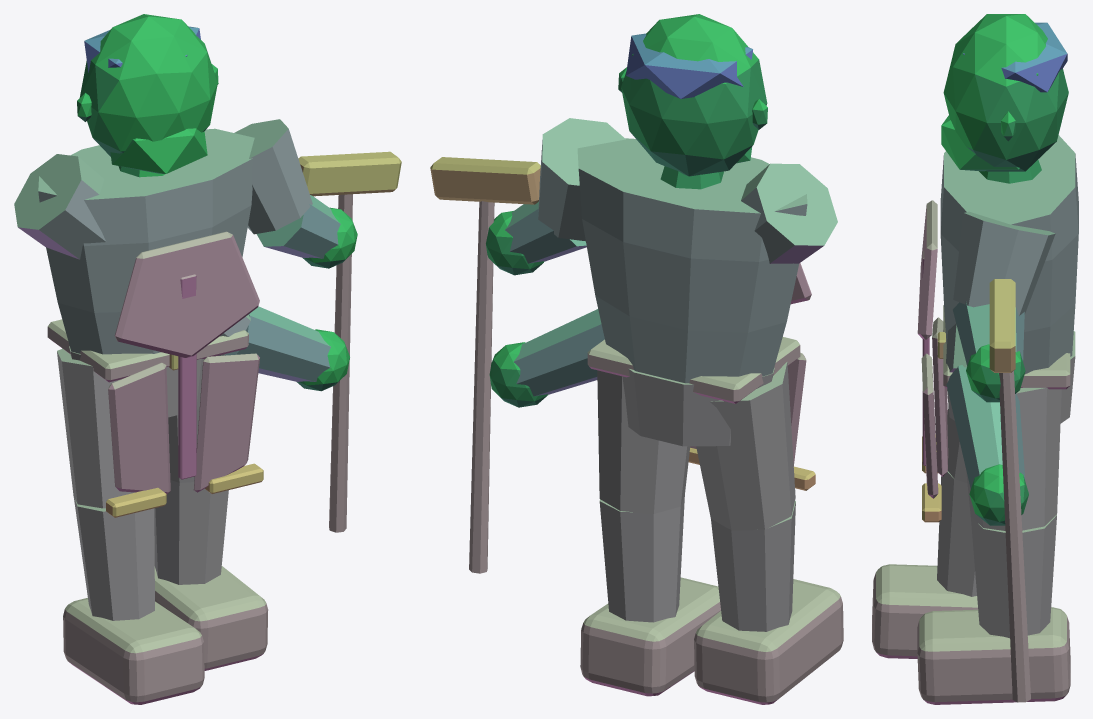
Rendered from npc_laborer_work_v01.glb.
The picture shows the model from 3 angles, left to right: view 1: azimuth 30°, elevation 25°; view 2: azimuth 150°, elevation 25°; view 3: azimuth 270°, elevation 25°; orthographic projection. The views are drawn at different scales.
Visible parts, largest first — view 1: GEO_npc_laborer_work_v01; view 2: GEO_npc_laborer_work_v01; view 3: GEO_npc_laborer_work_v01.
Part boxes in pixels (x1,y1,x2,y2): GEO_npc_laborer_work_v01: [14, 14, 401, 704]; GEO_npc_laborer_work_v01: [430, 14, 843, 704]; GEO_npc_laborer_work_v01: [872, 14, 1078, 704].
Size of the model in its own units: 1.28 by 2.07 by 0.593.
